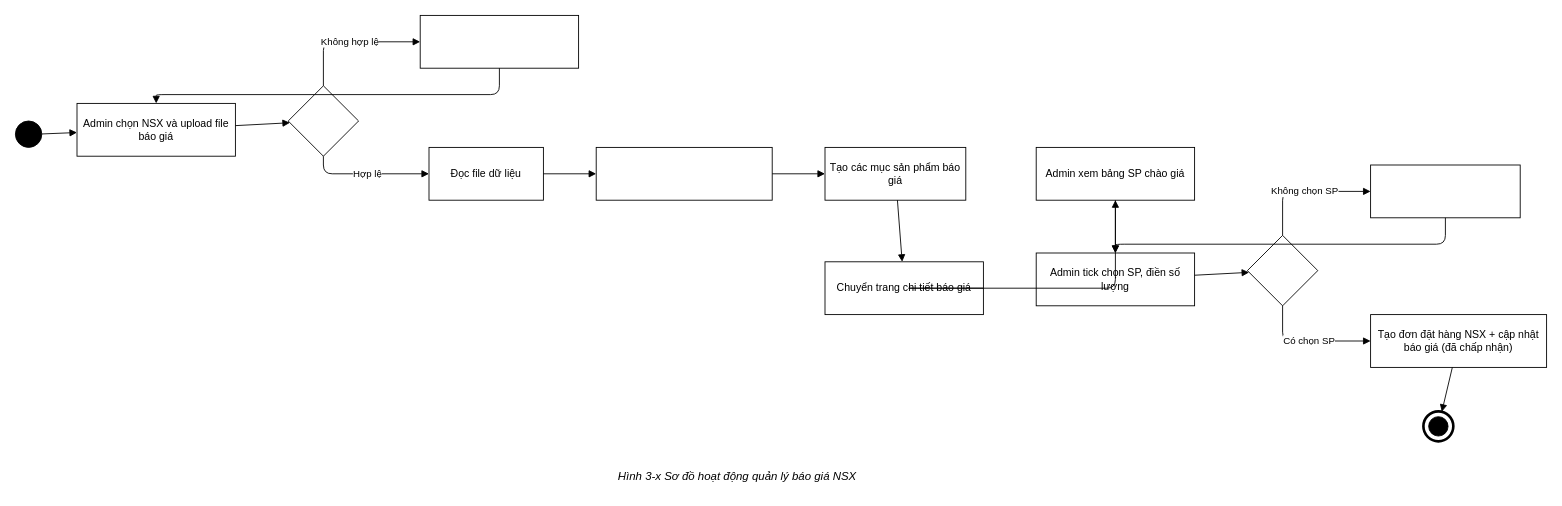
This 1562x506 diagram has some shape labels left out. Here are the shapes that lost their labels. From the top down, the centre of each, then its label:
the point at 499,41: Thông báo lỗi file / chưa chọn NSX
the point at 683,173: Tạo báo giá (mã, trạng thái: đã nộp)
the point at 1445,191: Thông báo lỗi chưa chọn SP
